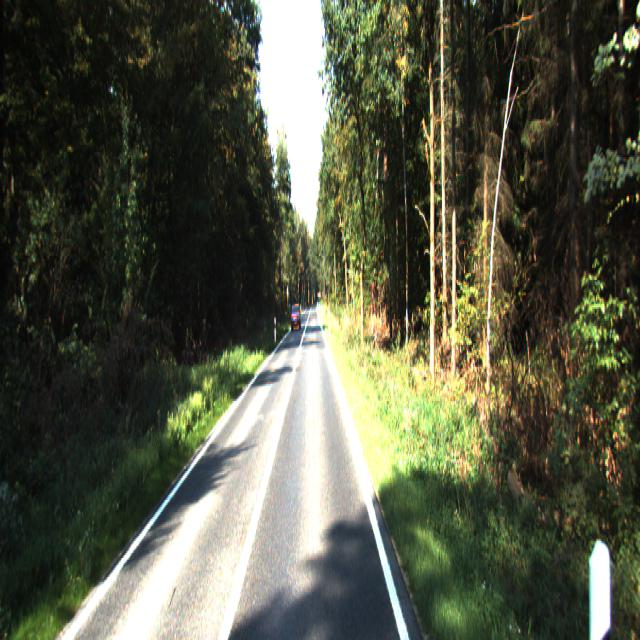Car: (291, 305, 301, 333)
